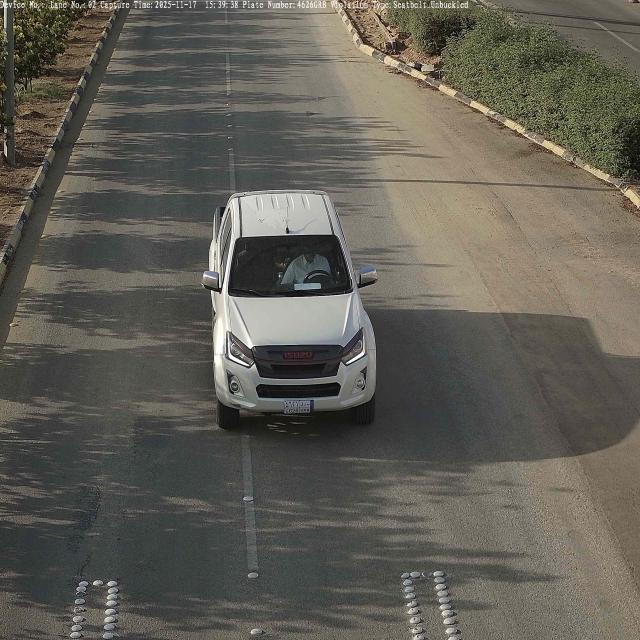person_without_seatbelt: (285, 238, 333, 287)
